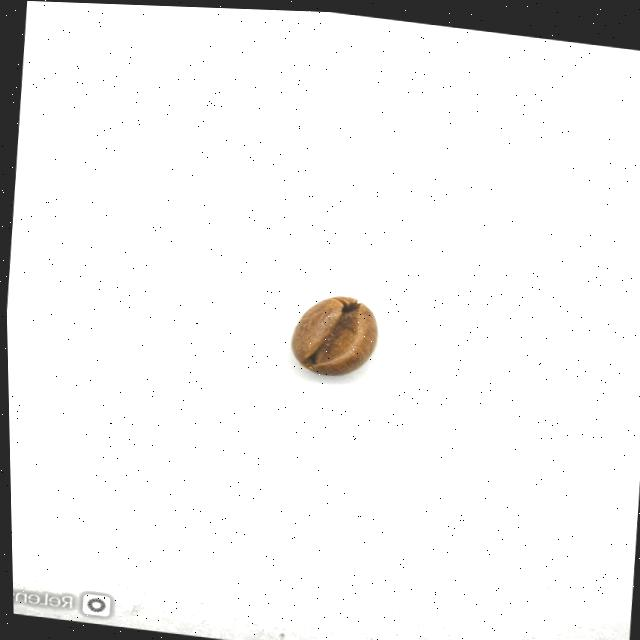Good bean: (287, 286, 380, 379)
